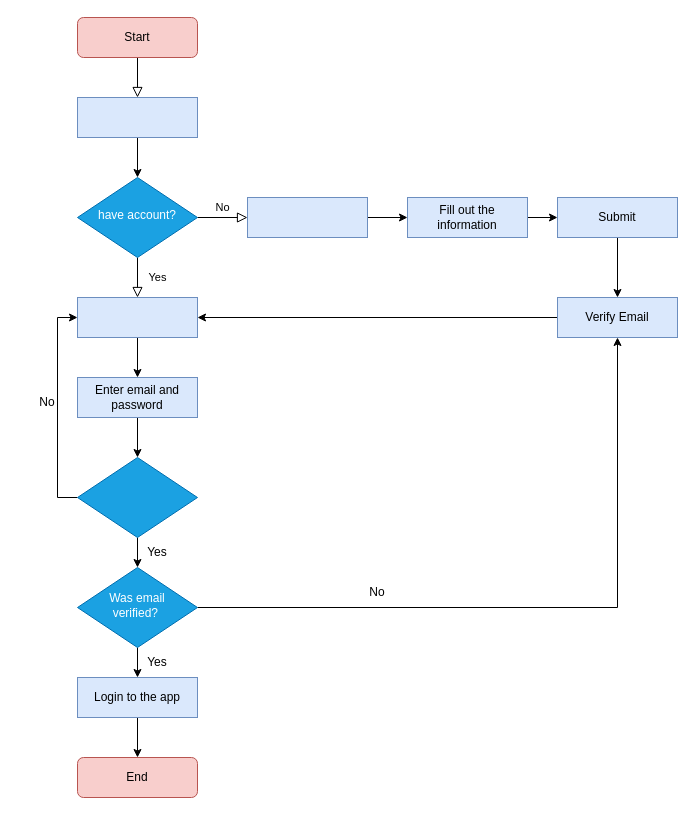
Some shapes in this 695 by 815 pixel diagram are drawn without their labels. The centre of each missing label's shape, as x and y in pixels:
"Email and password valid" goes at [137,497].
"Login" goes at [137,317].
"open app" goes at [137,117].
"Register" goes at [307,217].
